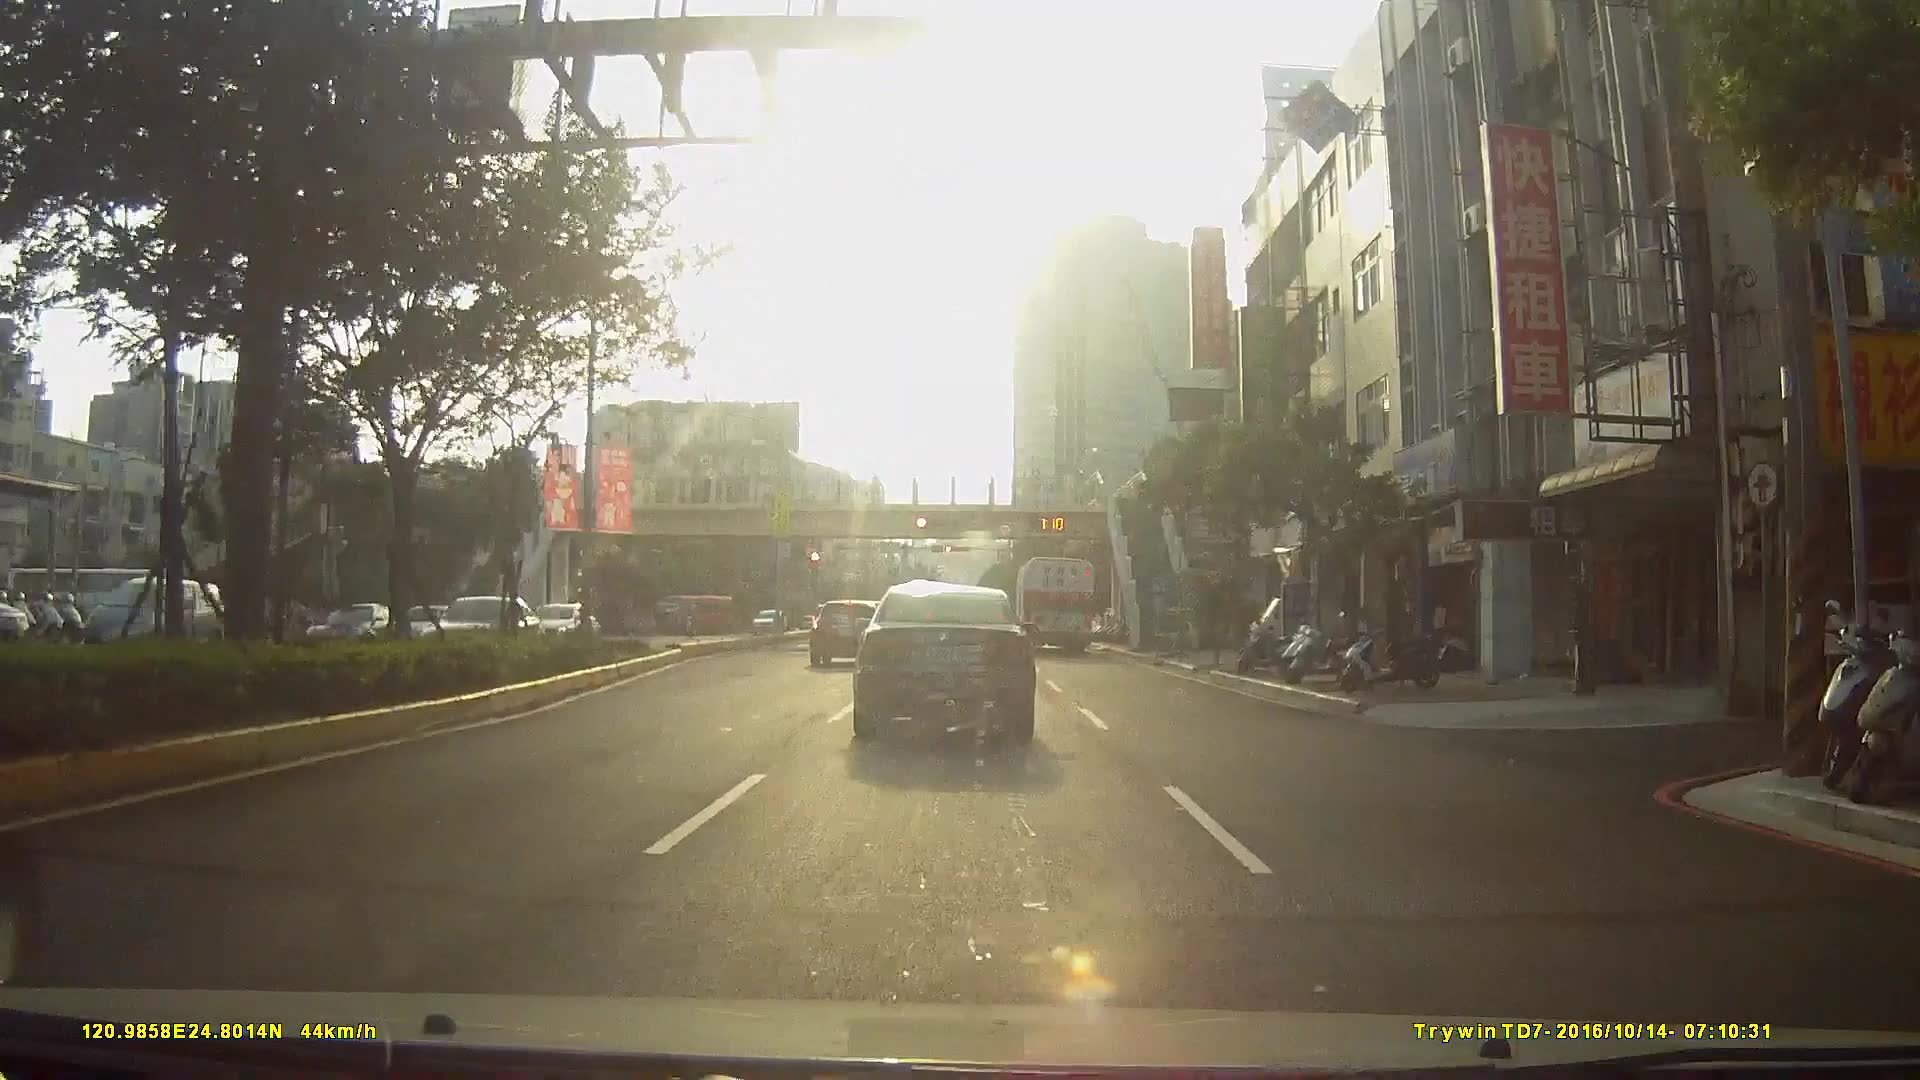vehicle: (851, 584, 1036, 742), (78, 574, 222, 658), (1011, 556, 1097, 655), (806, 601, 880, 673), (745, 609, 789, 640)
